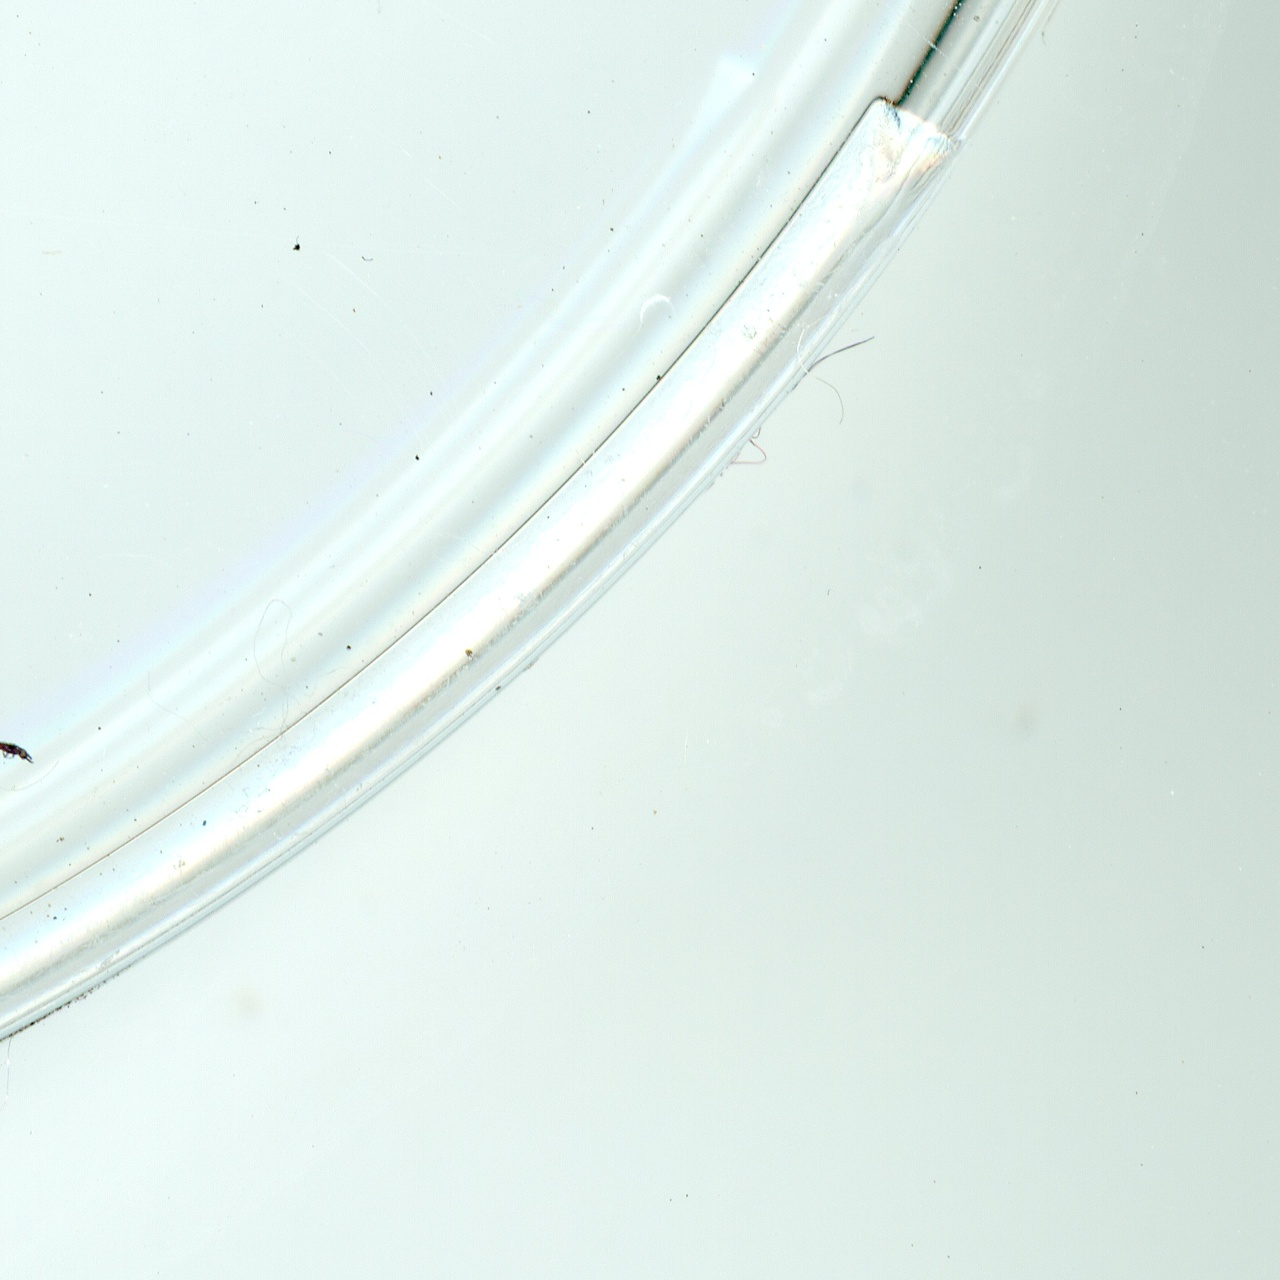arthropod: (0, 730, 40, 769)
